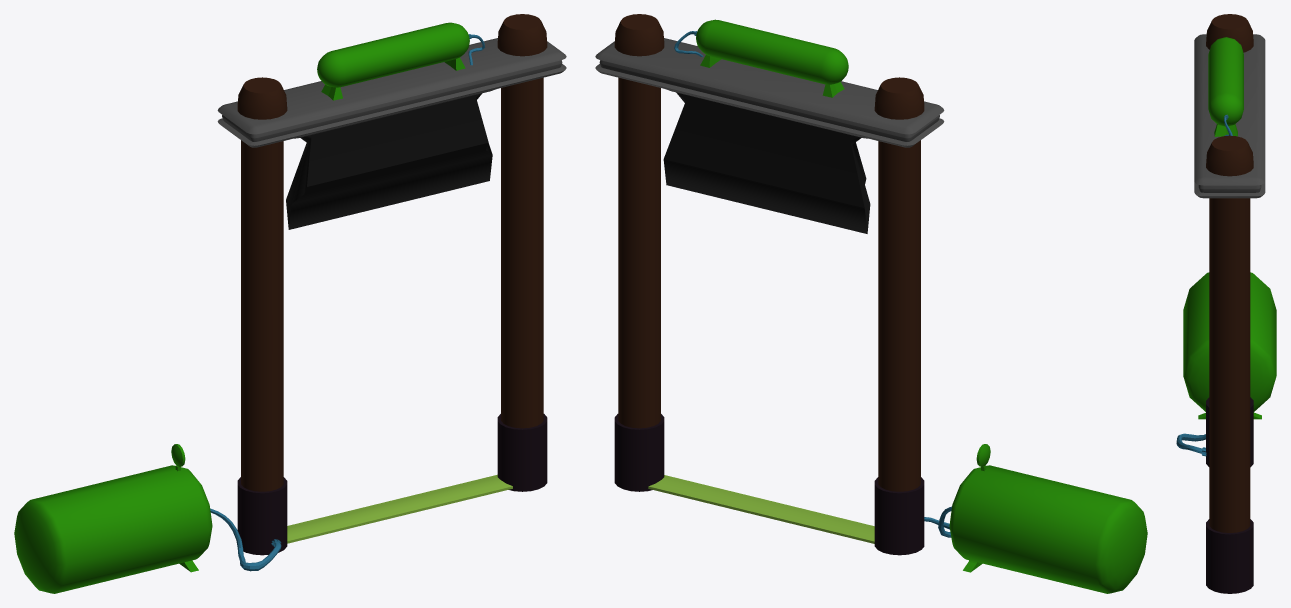
Rendered from Chopper of Death.FBX.
3 views of the same model, side by side, from view 1: azimuth 30°, elevation 25°; view 2: azimuth 150°, elevation 25°; view 3: azimuth 270°, elevation 25° (orthographic). The views are drawn at different scales.
Visible parts, largest first — view 1: Cylinder029, Cylinder030, Capsule002, Box011, ChamferBox001, Capsule003, Box006, Line001; view 2: Cylinder030, Cylinder029, Box011, Capsule002, ChamferBox001, Capsule003, Box006; view 3: Cylinder029, ChamferBox001, Capsule002, Capsule003, Cylinder030, Line001.
Boxes of the visible parts, x1,y1,x2,y2 form: Cylinder029: (497,14,547,491); Cylinder030: (237,77,287,555); Capsule002: (14,465,212,593); Box011: (286,93,492,229); ChamferBox001: (217,38,566,147); Capsule003: (317,22,469,100); Box006: (287,474,512,543); Line001: (210,508,281,571); Cylinder030: (874,77,924,555); Cylinder029: (614,14,664,491); Box011: (663,92,870,233); Capsule002: (949,465,1147,593); ChamferBox001: (595,38,944,147); Capsule003: (696,19,848,97); Box006: (648,475,874,543); Cylinder029: (1206,135,1253,593); ChamferBox001: (1194,34,1265,198); Capsule002: (1183,272,1276,411); Capsule003: (1208,37,1243,136); Cylinder030: (1206,14,1253,467); Line001: (1176,433,1206,456).
Size of the model in its own units: 3.41 by 2.97 by 0.589.
